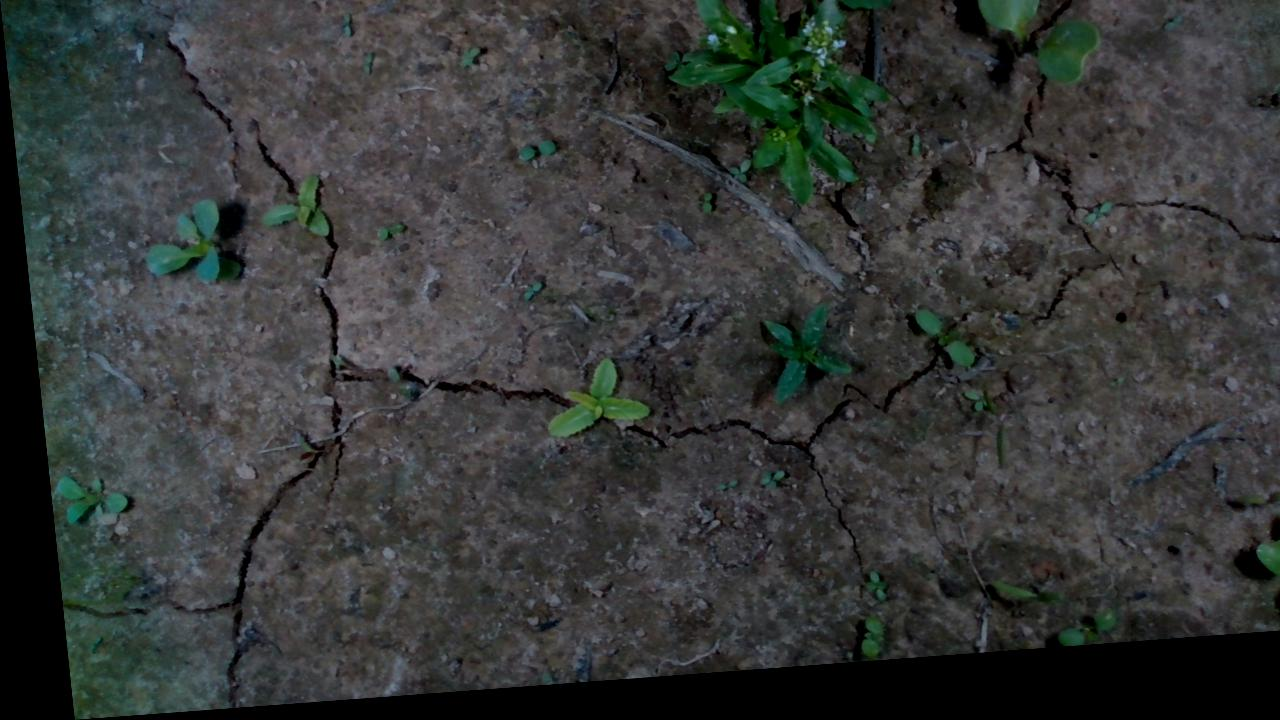weed: (749, 312, 844, 415), (530, 362, 643, 446), (247, 173, 334, 256), (899, 326, 978, 387), (41, 468, 120, 523), (948, 393, 1019, 446), (675, 197, 720, 236), (444, 44, 495, 78), (361, 225, 412, 257), (509, 145, 558, 176), (843, 582, 883, 615), (1076, 214, 1117, 245), (895, 138, 921, 179), (718, 162, 746, 193), (333, 11, 354, 43), (352, 52, 375, 76)
